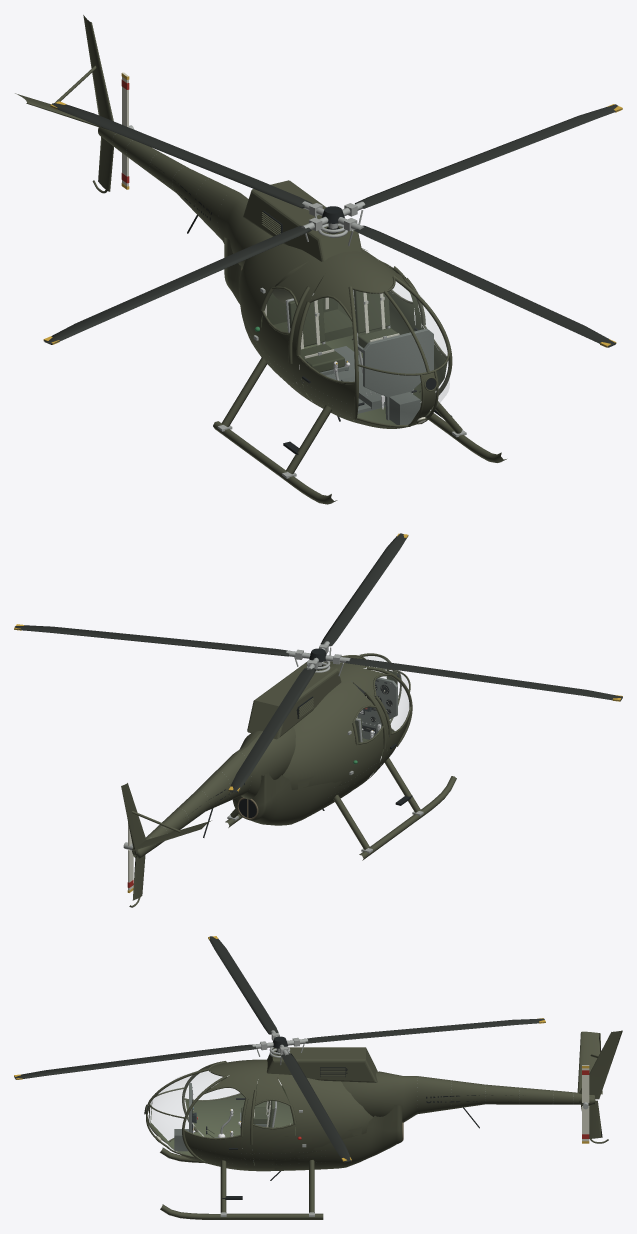
File: source.glb
3 renders of one model, top to bottom at view 1: azimuth 30°, elevation 25°; view 2: azimuth 150°, elevation 25°; view 3: azimuth 270°, elevation 25°, orthographic. The views are drawn at different scales.
Visible parts, largest first — view 1: cabin-panels, rotor-airfoil (×4), tail-boom, instrument-panel, transmission-fairing, glazing-upright, cabin-interior, seat-back (×2), skid--1, tail-fin, aft-seat-bench, pedestal-body (+6 smaller); view 2: cabin-panels, rotor-airfoil (×4), tail-boom, transmission-fairing, glazing-upright, instrument-panel, skid--1, tail-fin; view 3: cabin-panels, tail-boom, rotor-airfoil (×4), transmission-fairing, cabin-interior, windshield-glazing, glazing-upright, skid-1, tail-fin, tail-stabilizer--1, tail-stabilizer-1.
Part boxes in pixels (x1,y1,x2,y2): cabin-panels: (224,237,435,428); rotor-airfoil (×4): (44,103,621,347); tail-boom: (98,127,322,303); instrument-panel: (363,328,433,420); transmission-fairing: (243,180,362,261); glazing-upright: (260,266,452,426); cabin-interior: (300,269,447,424); seat-back (×2): (288,290,390,346); skid--1: (213,421,337,504); tail-fin: (83,15,113,121); aft-seat-bench: (274,309,358,346); pedestal-body: (389,392,420,424); cabin-panels: (232,656,408,825); rotor-airfoil (×4): (14,533,622,792); tail-boom: (132,727,295,858); transmission-fairing: (247,662,341,739); glazing-upright: (352,653,412,748); instrument-panel: (354,677,397,739); skid--1: (359,776,456,860); tail-fin: (121,783,146,854); cabin-panels: (148,1059,402,1171); tail-boom: (342,1071,595,1122); rotor-airfoil (×4): (14,936,545,1162); transmission-fairing: (267,1047,377,1082); cabin-interior: (150,1085,295,1165); windshield-glazing: (149,1067,208,1140); glazing-upright: (146,1061,296,1158); skid-1: (160,1204,323,1219); tail-fin: (579,1030,622,1099); tail-stabilizer--1: (577,1031,602,1094); tail-stabilizer-1: (581,1100,602,1138).
Size of what is drawn, in the model's own units: 7.83 by 2.61 by 8.97.
35 materials, 14 textured.
